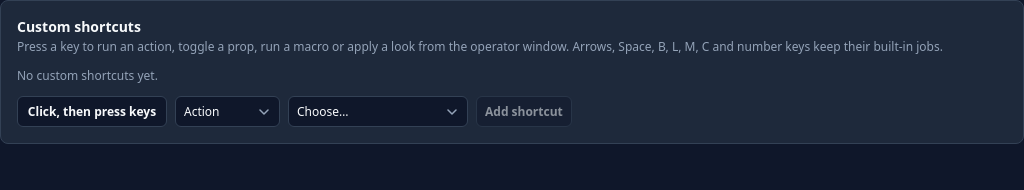
KeyBindingsCard › adds a shortcut by pressing keys and removes it again
The image size is (1024, 190).
Expected: the text "No custom shortcuts yet." is shown, [17,67,158,84]
Step 1. Click the button with test id "key-capture" → x=92, y=112, box [17,96,167,127]
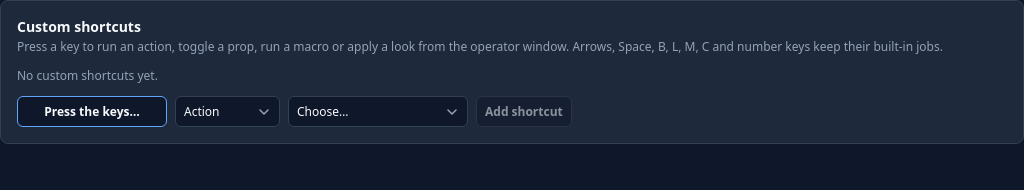
Step 2. Press F9 in the button with test id "key-capture", box [17,96,167,127]
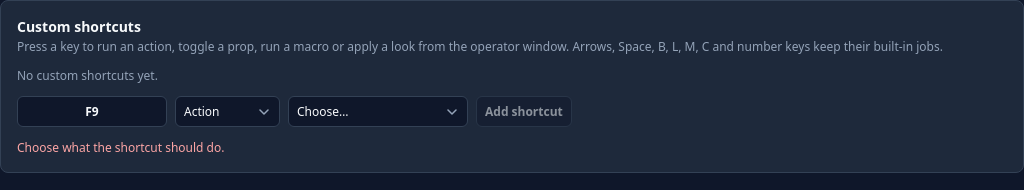
Step 3. Select "Clear all (blank output)" in the dropdown with test id "key-target" → x=378, y=112, box [288,96,468,127]
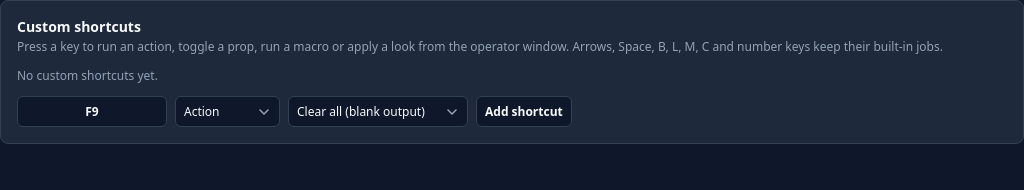
Step 4. Click the button with test id "key-add" → x=524, y=112, box [476,96,572,127]
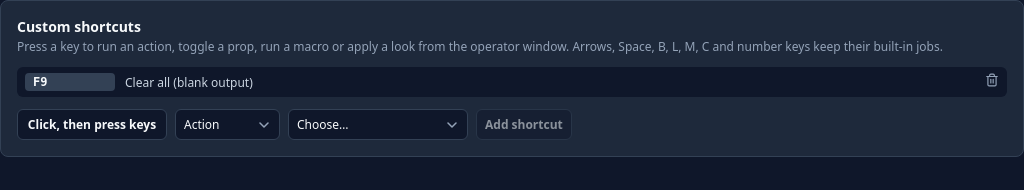
Result: the element with test id "key-binding-row" shows "F9" at [33,75,48,89]
Result: the element with test id "key-binding-row" shows "Clear all (blank output)" at [125,74,253,90]
Step 5. Click the button named "Remove shortcut F9" → x=992, y=82, box [985,73,999,91]
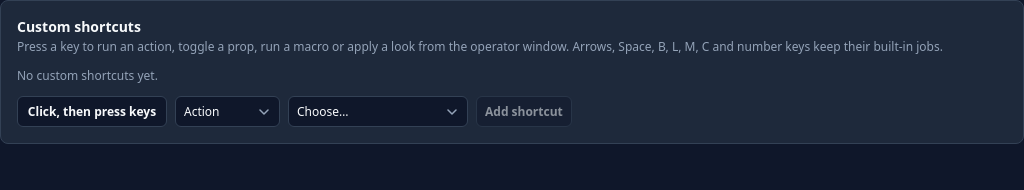
Result: the text "No custom shortcuts yet." is shown at [17,67,158,84]
